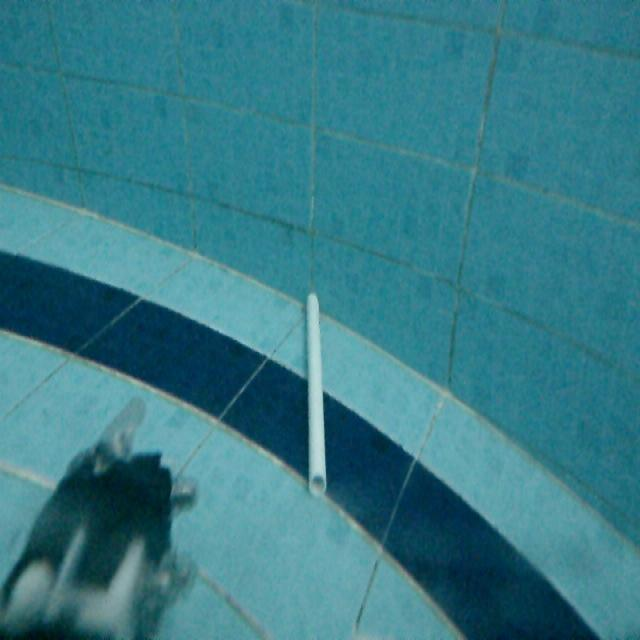Cube: (301, 286, 330, 498)
